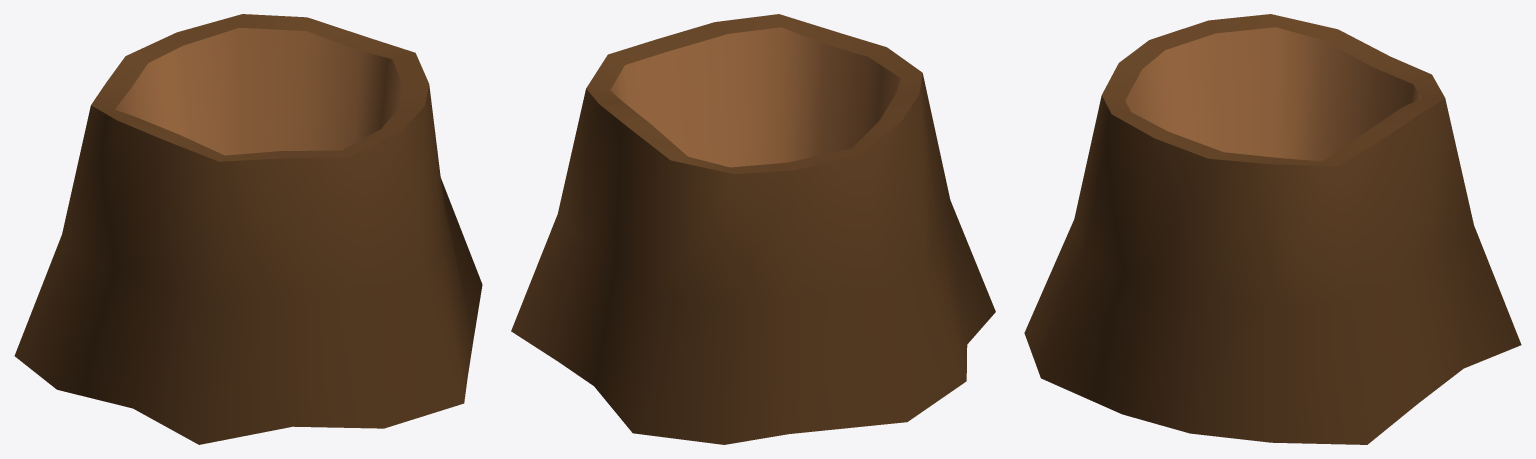
The model's file is Tree_Stump_2.glb.
3 renders of one model, left to right at view 1: azimuth 30°, elevation 25°; view 2: azimuth 150°, elevation 25°; view 3: azimuth 270°, elevation 25°, orthographic.
Visible parts, largest first — view 1: Tree_Stump_2; view 2: Tree_Stump_2; view 3: Tree_Stump_2.
Part boxes in pixels (x1,y1,x2,y2): Tree_Stump_2: (14, 14, 482, 444); Tree_Stump_2: (511, 14, 995, 444); Tree_Stump_2: (1024, 14, 1521, 444).
Size of the model in its own units: 1.01 by 0.6172 by 1.02.
Materials: 1 (1 with a texture image).
